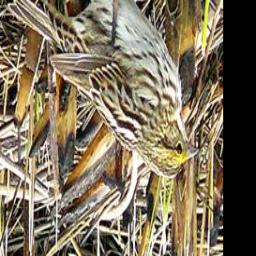Sparrow: (5, 0, 203, 178)
